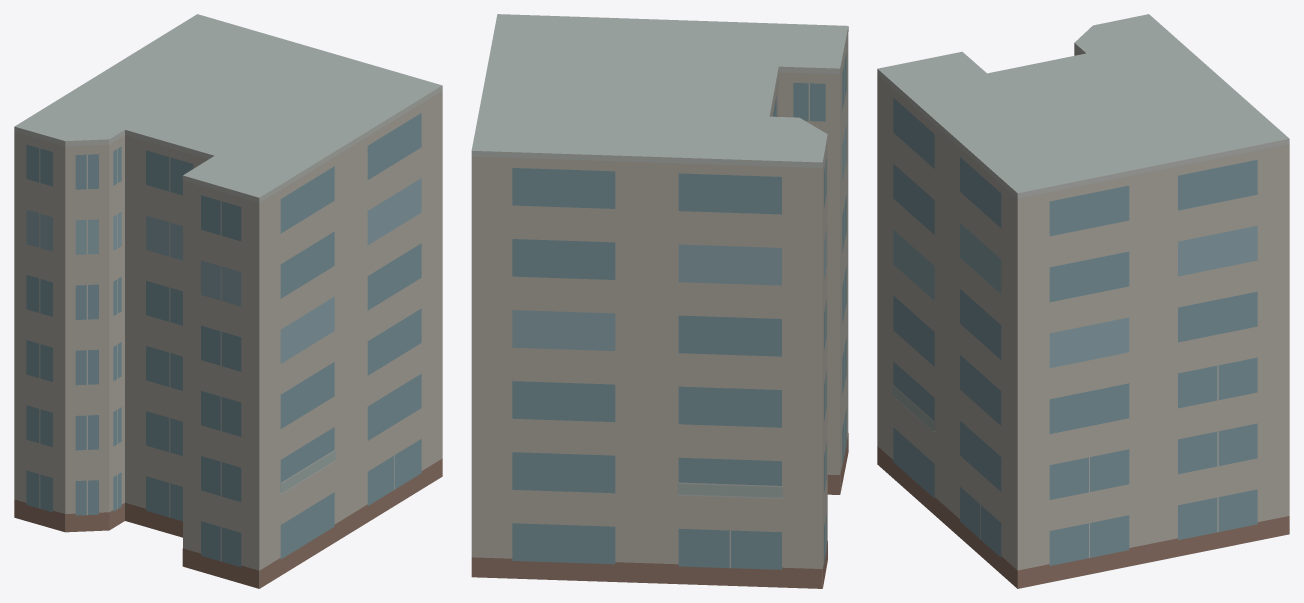
The model's file is survey-upis-32965497.glb.
The picture shows the model from 3 angles, left to right: view 1: azimuth 30°, elevation 25°; view 2: azimuth 150°, elevation 25°; view 3: azimuth 270°, elevation 25°; orthographic projection. The views are drawn at different scales.
Parts seen in each view (by area): view 1: survey-upis-32965497.tmp; view 2: survey-upis-32965497.tmp; view 3: survey-upis-32965497.tmp.
Boxes of the visible parts, x1,y1,x2,y2 form: survey-upis-32965497.tmp: [14, 14, 442, 588]; survey-upis-32965497.tmp: [471, 14, 848, 588]; survey-upis-32965497.tmp: [877, 14, 1289, 588].
Bounding box in the file's own units: 17.8 × 18.3 × 17.3.
